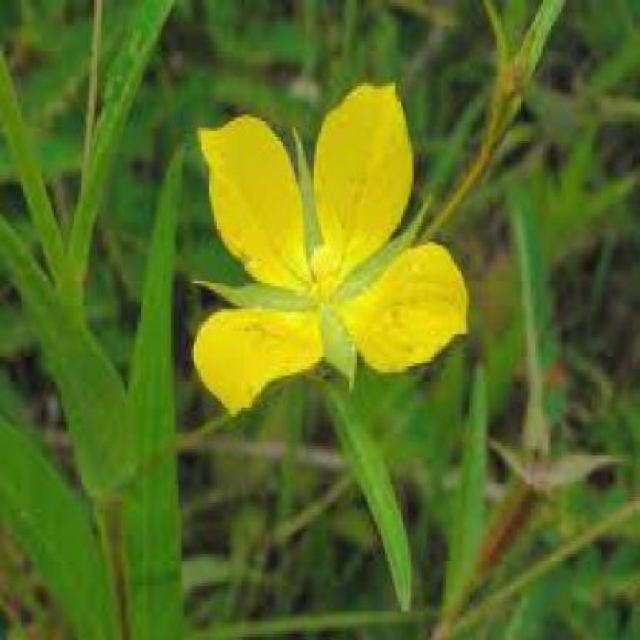flower: (188, 78, 500, 410)
